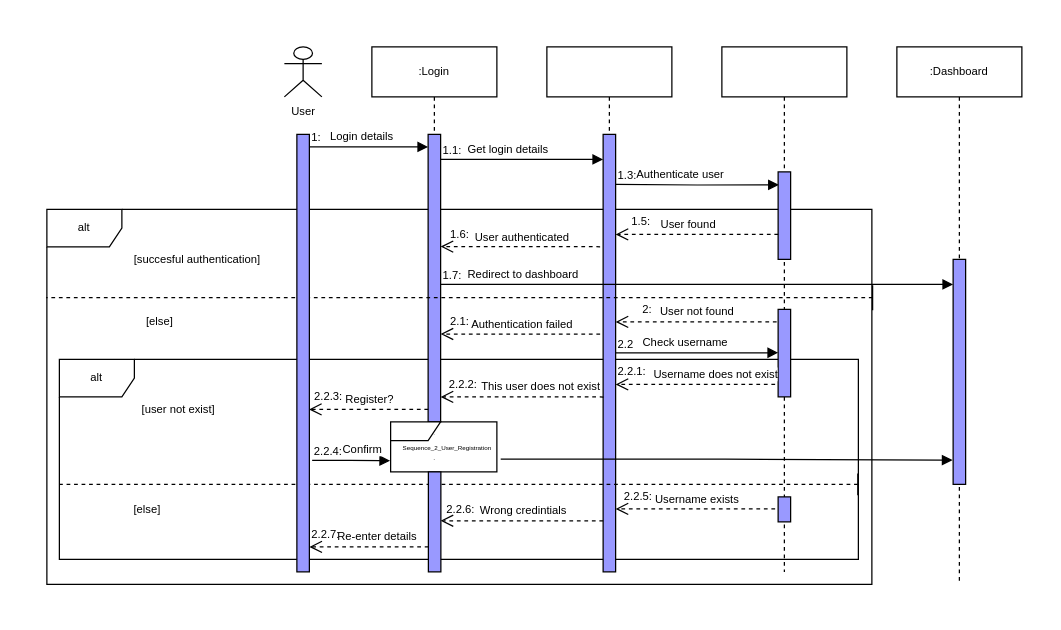
Image size: 1061x630. Some labels were removed from this diagram. Here are the shapes that lost their labels. From the top down, the box of each, then its label:
(546, 46, 672, 572): :Server
(721, 46, 847, 572): :Database
(389, 421, 497, 472): ref
